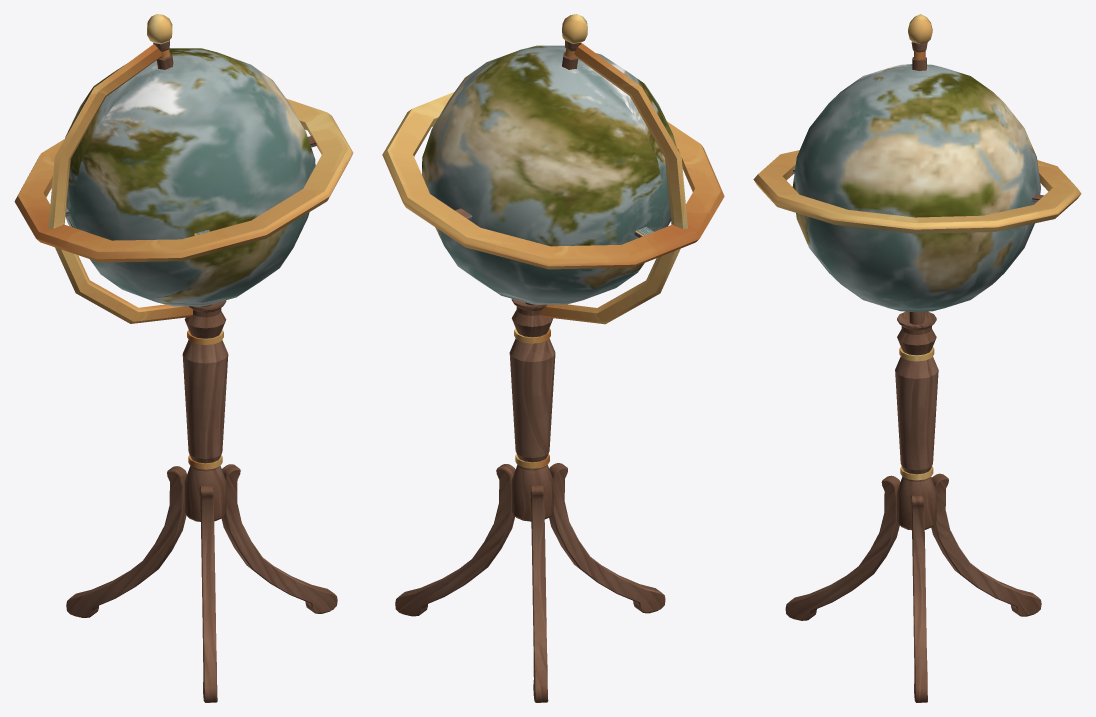
The model's file is Globe.fbx.
3 renders of one model, left to right at view 1: azimuth 30°, elevation 25°; view 2: azimuth 150°, elevation 25°; view 3: azimuth 270°, elevation 25°, orthographic. The views are drawn at different scales.
Parts seen in each view (by area): view 1: sweep8; view 2: sweep8; view 3: sweep8.
Part boxes in pixels (box(x1,y1,x2,y2)): sweep8: box(14, 14, 353, 702); sweep8: box(382, 14, 724, 702); sweep8: box(753, 14, 1081, 702).
Bounding box in the file's own units: 0.3306 × 0.672 × 0.3283.
